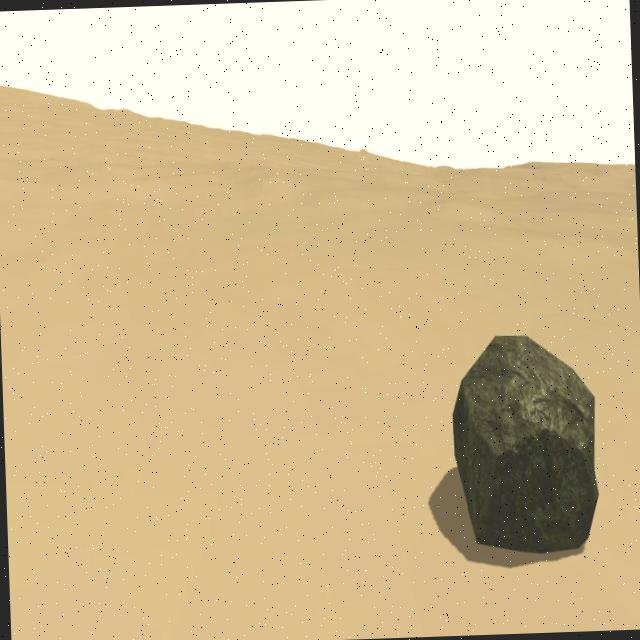rock: (450, 331, 600, 556)
